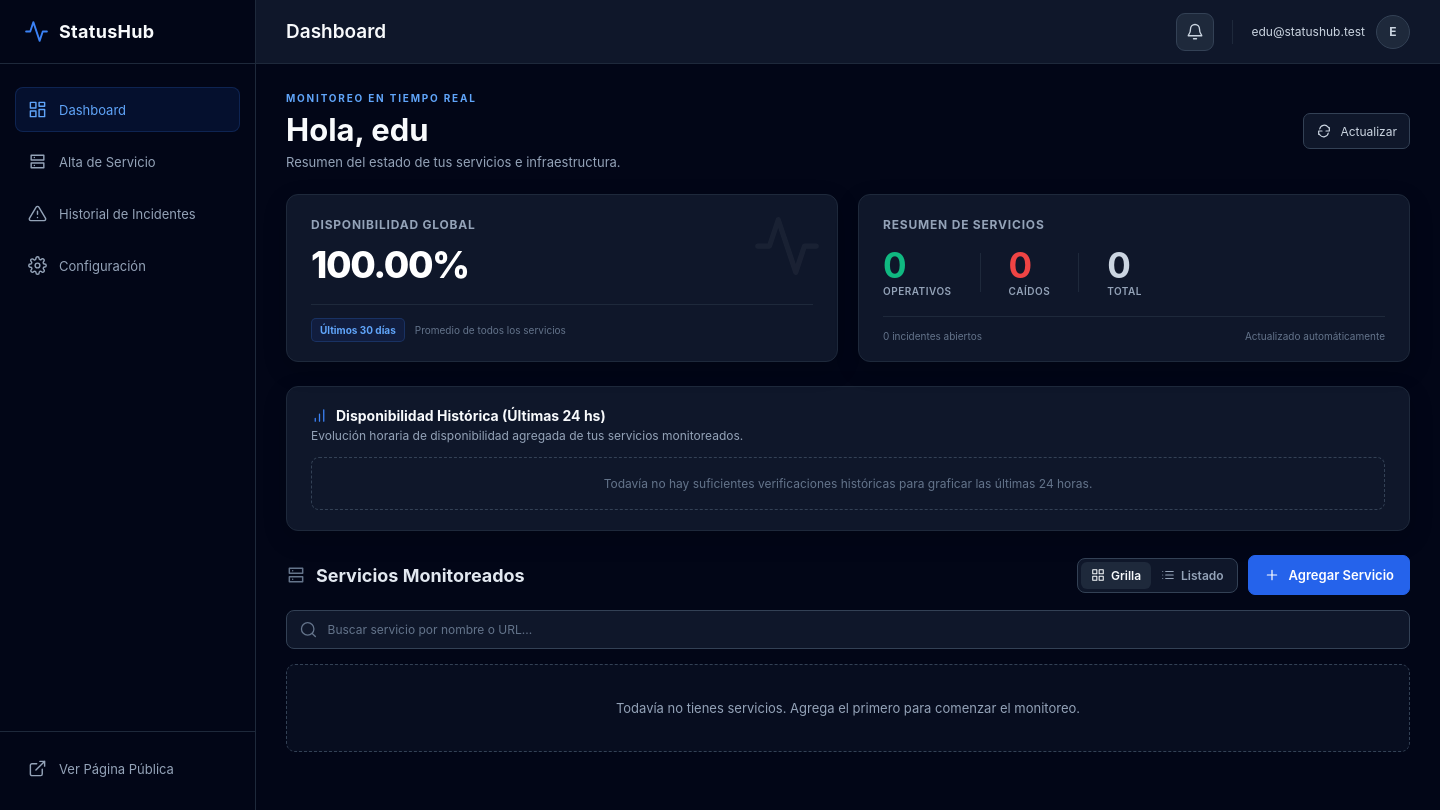
Test: Configuración — Página pública obligatoria, preferencias, cambio de contraseña y baja de cuenta › permite darse de baja con contraseña y confirmación final, cerrando sesión
This screenshot has width=1440, height=810.
Step 1. Click the button "Configuración" → (128, 266), box [15,243,240,288]
(page scrolled)
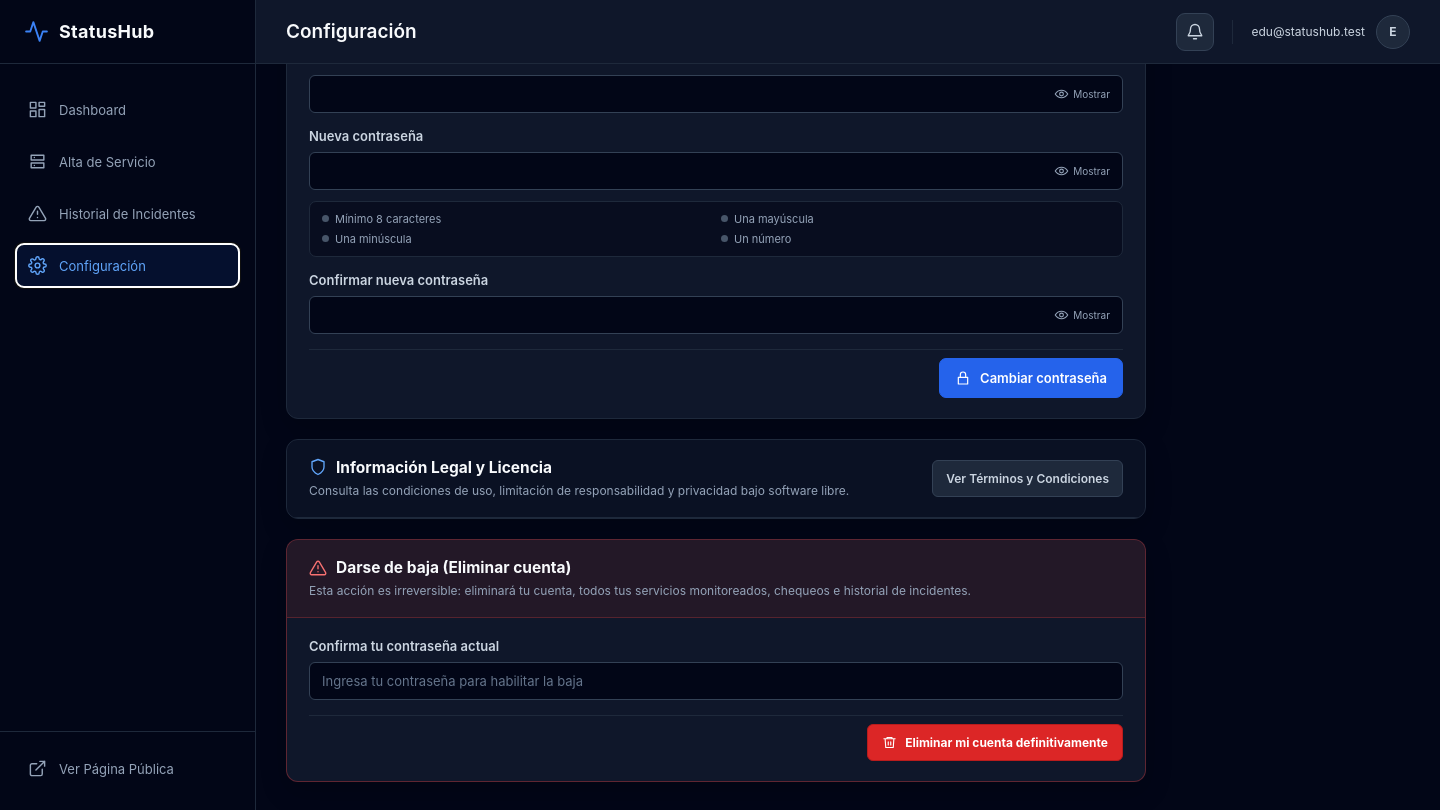
Note: Sin contraseña marca error
Step 2. Click the button "Eliminar mi cuenta definitivamente" → (995, 743), box [867,724,1123,762]
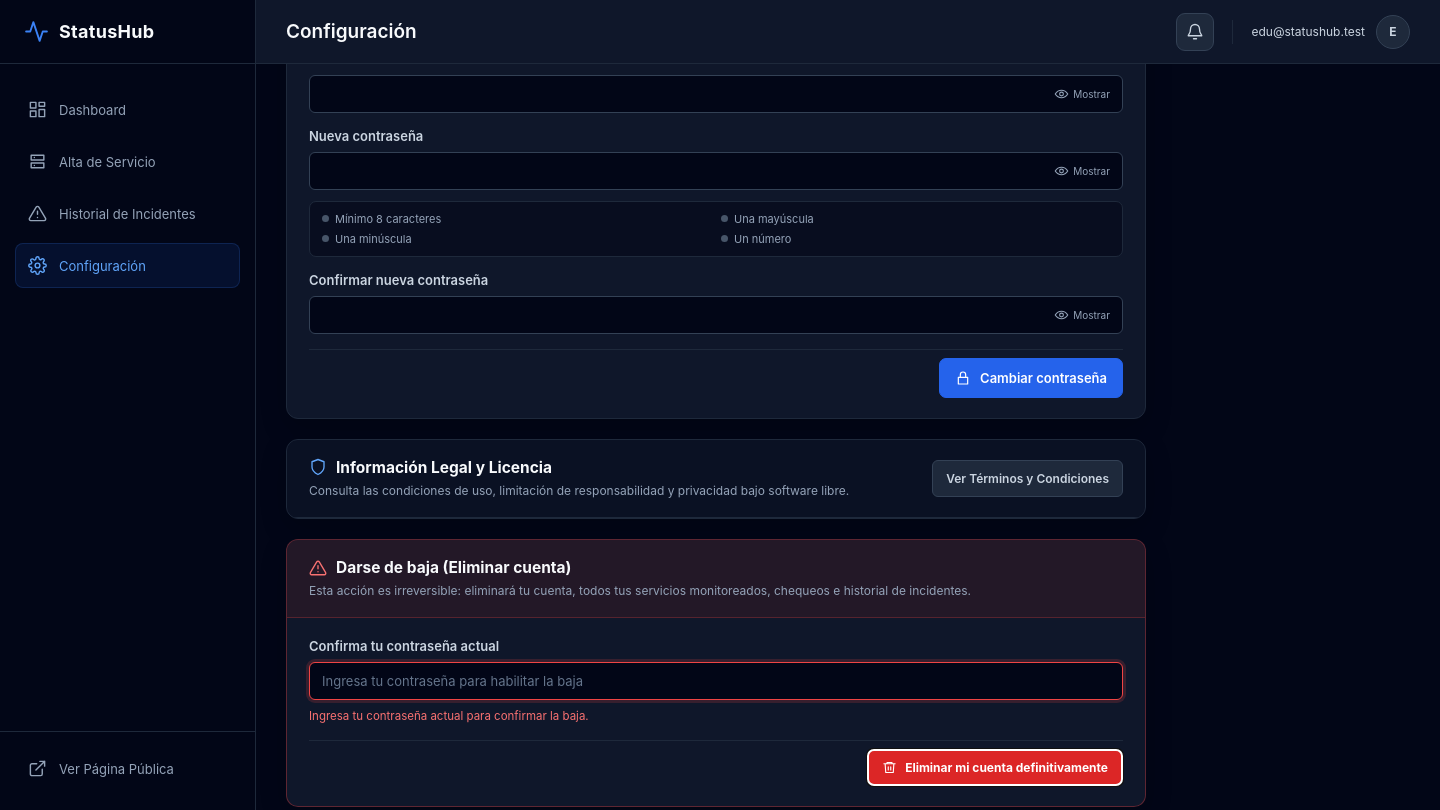
Now the text "Ingresa tu contraseña actual para confirmar la baja." is shown, box [309,710,589,724]
Note: Con contraseña abre modal de confirmación y ejecuta DELETE /api/account
Step 3. Type "MiClave2026" into the password field labelled "Confirma tu contraseña actual" → (716, 682), box [309,662,1123,700]
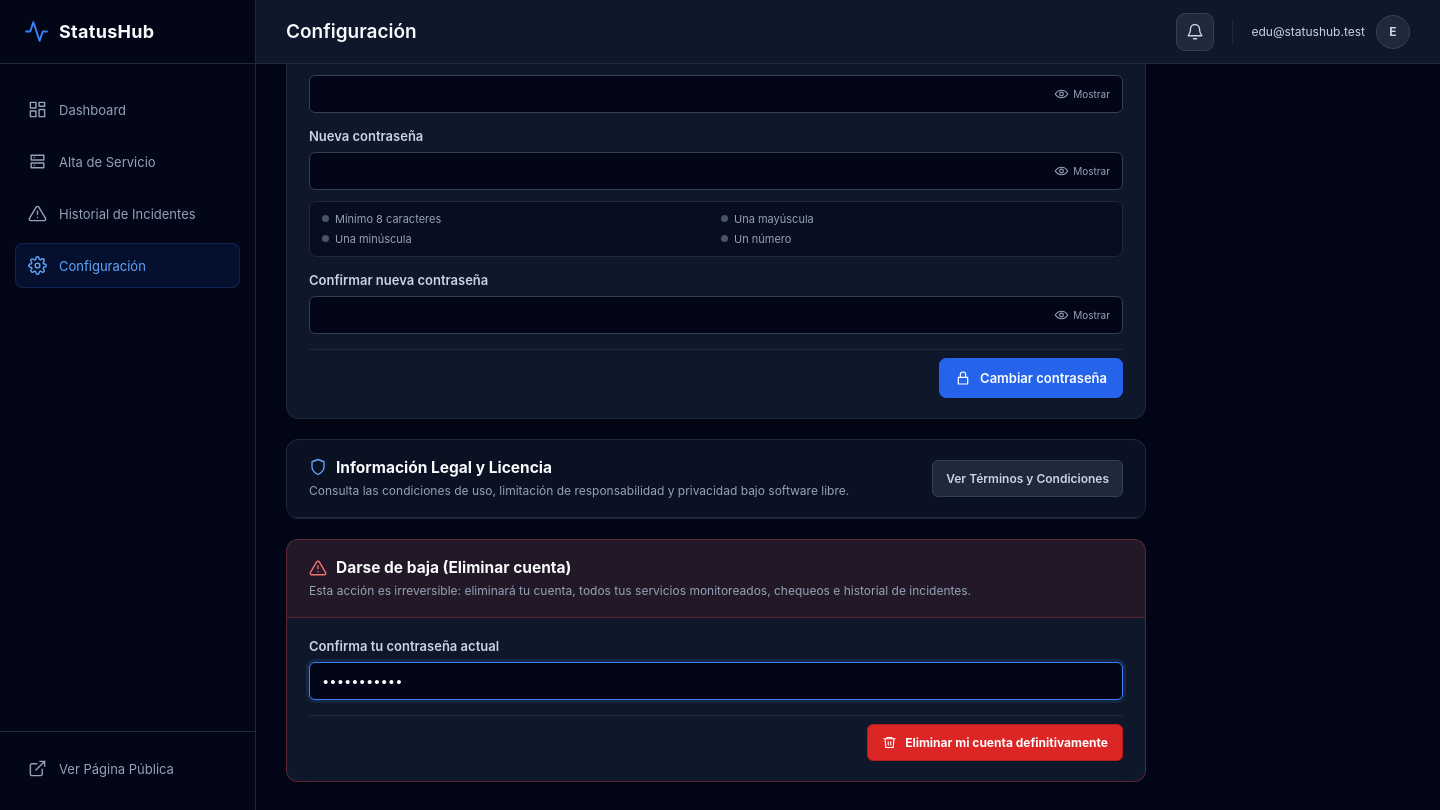
Step 4. Click the button "Eliminar mi cuenta definitivamente" → (995, 743), box [867,724,1123,762]
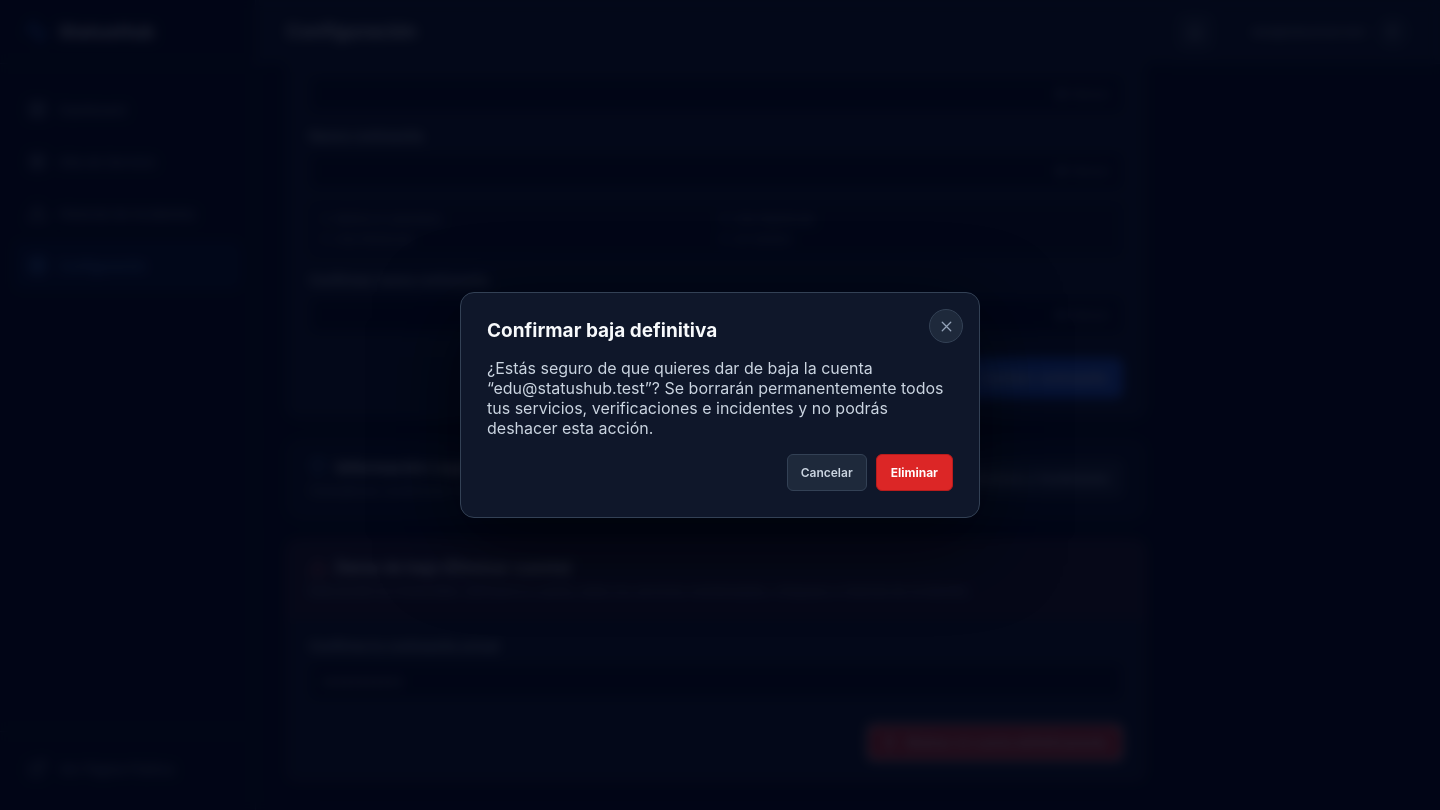
Now the heading "Confirmar baja definitiva" is shown, box [487,319,717,342]
Step 5. Click the button "Eliminar" → (914, 472), box [876,454,953,491]
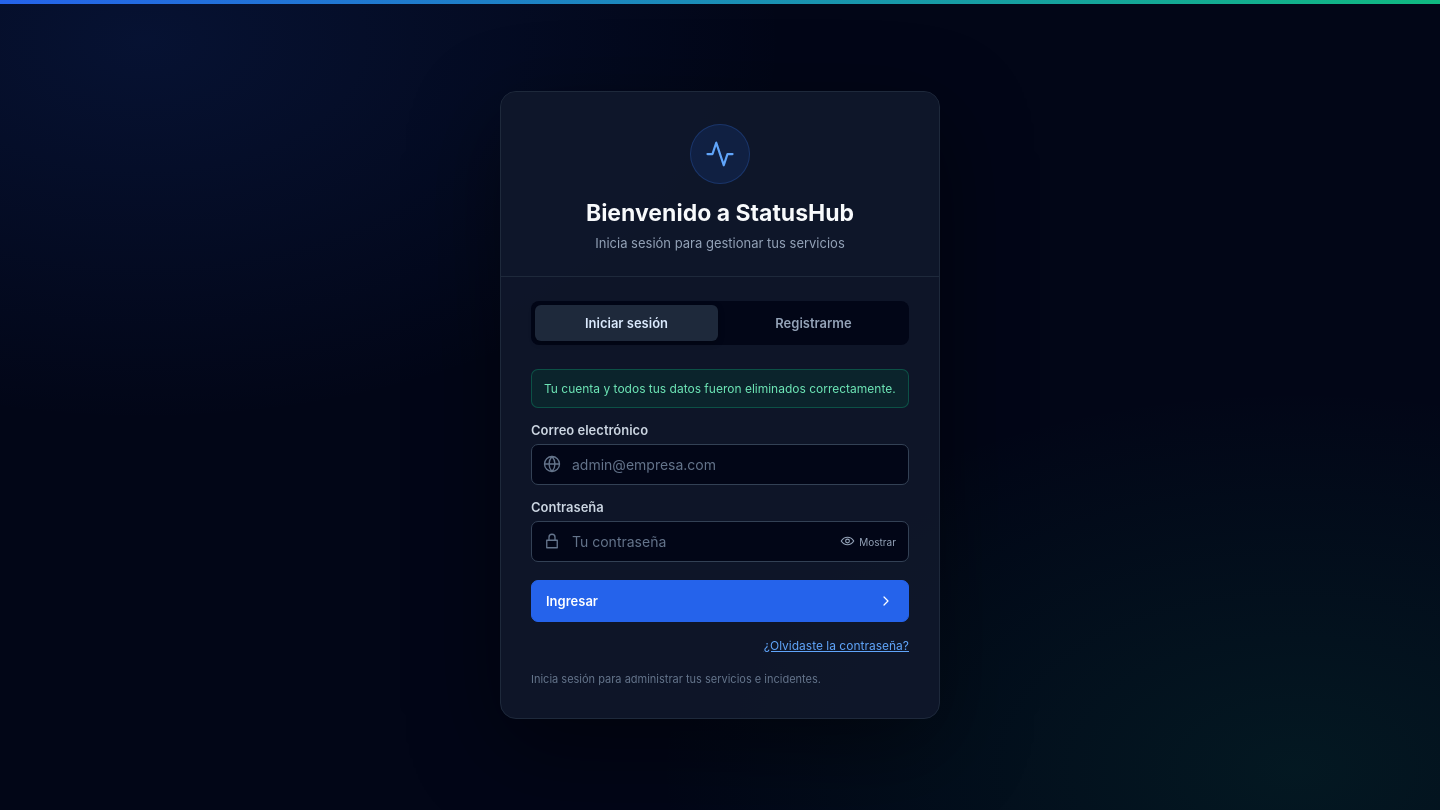
Now the text "Tu cuenta y todos tus datos fueron eliminados correctamente." is shown, box [531,368,909,408]
